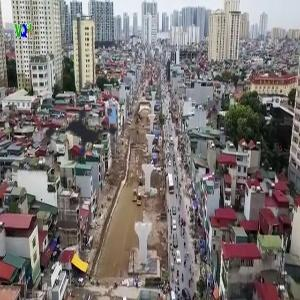drone: (10, 61, 158, 209)
